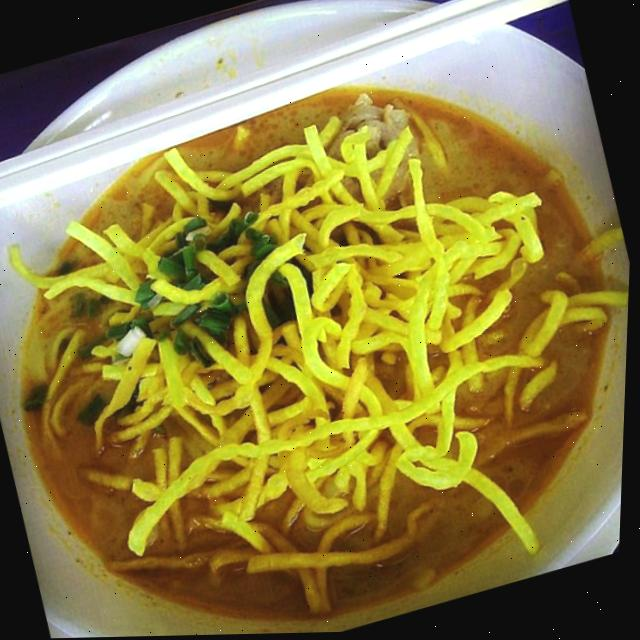面条主食: (0, 41, 638, 640)
